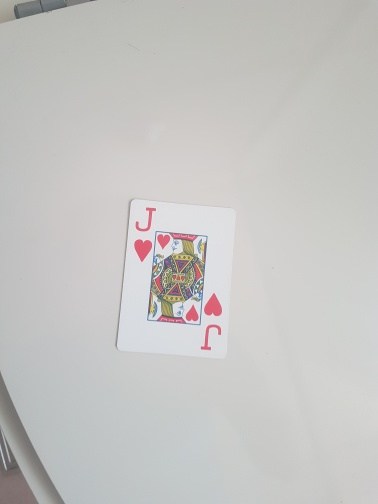jack: (112, 198, 237, 362)
